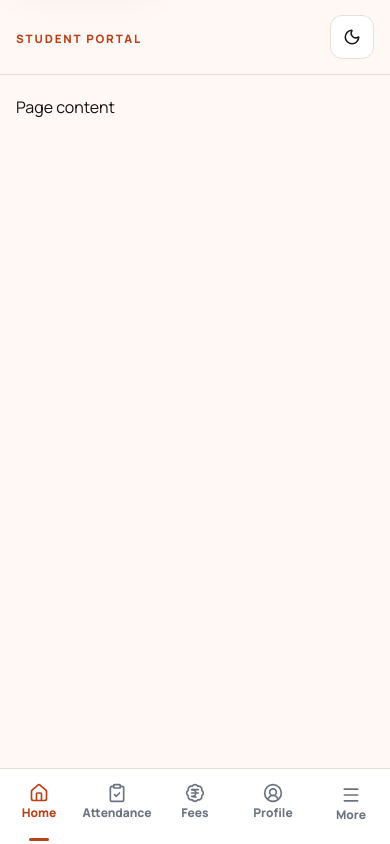
Test: PortalShell mobile navigation › puts Schedule and ID card in the Student More sheet
Click the button "More" at (351, 806), box x1=312 y1=769 x2=389 y2=843
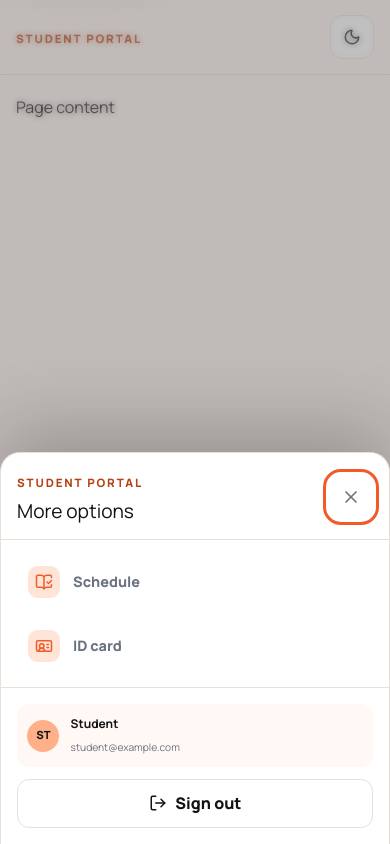
Result: the links read "Schedule", "ID card", in this order at x1=28 y1=566 x2=140 y2=598; x1=28 y1=630 x2=122 y2=662
